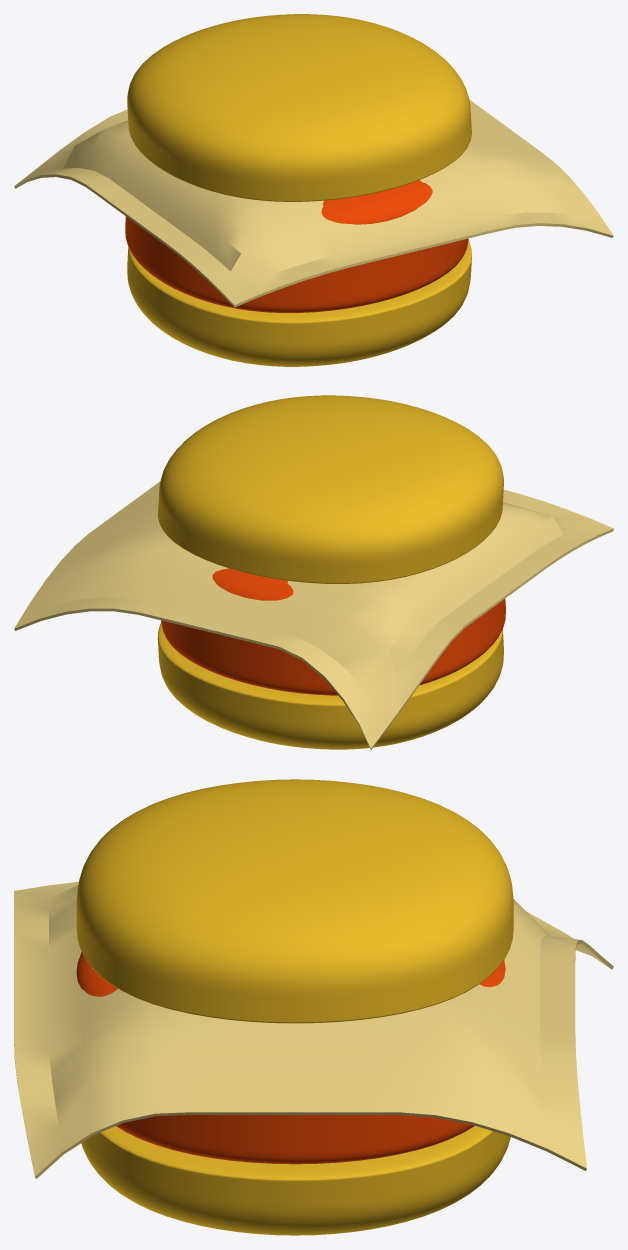
The model's file is hamburger.glb.
The picture shows the model from 3 angles, top to bottom: view 1: azimuth 30°, elevation 25°; view 2: azimuth 150°, elevation 25°; view 3: azimuth 270°, elevation 25°; orthographic projection. The views are drawn at different scales.
Visible parts, largest first — view 1: Cube.002, Plane, Cube, Cube.001; view 2: Cube.002, Plane, Cube, Cube.001; view 3: Cube.002, Plane, Cube, Cube.001.
Part boxes in pixels (x1,y1,x2,y2): Cube.002: (127,14,471,201); Plane: (14,99,613,307); Cube: (127,240,471,366); Cube.001: (125,180,468,312); Cube.002: (157,395,503,583); Plane: (14,481,613,749); Cube: (157,623,503,749); Cube.001: (161,568,505,695); Cube.002: (76,779,513,1023); Plane: (14,881,613,1178); Cube: (81,1126,510,1235); Cube.001: (76,952,505,1164).
Bounding box in the file's own units: 12.23 × 7.94 × 12.59.
